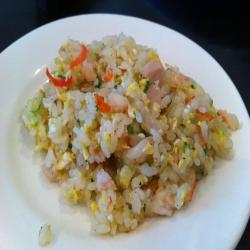rice: (29, 36, 231, 234)
